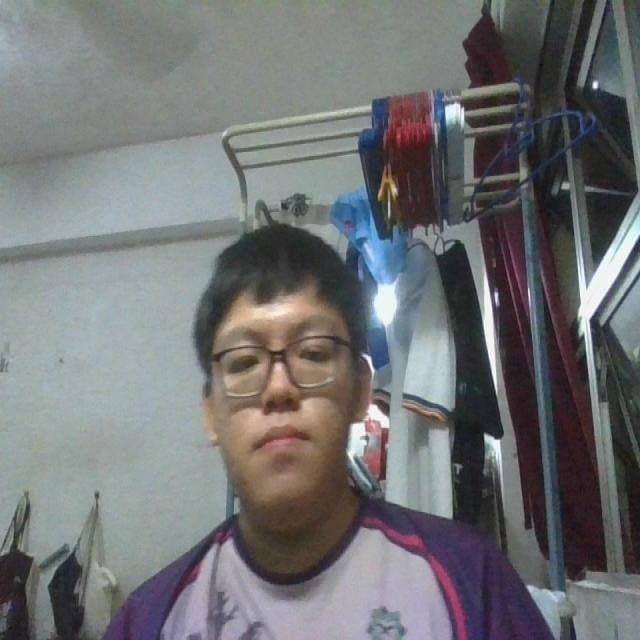person_without_labcoat: (104, 224, 552, 639)
